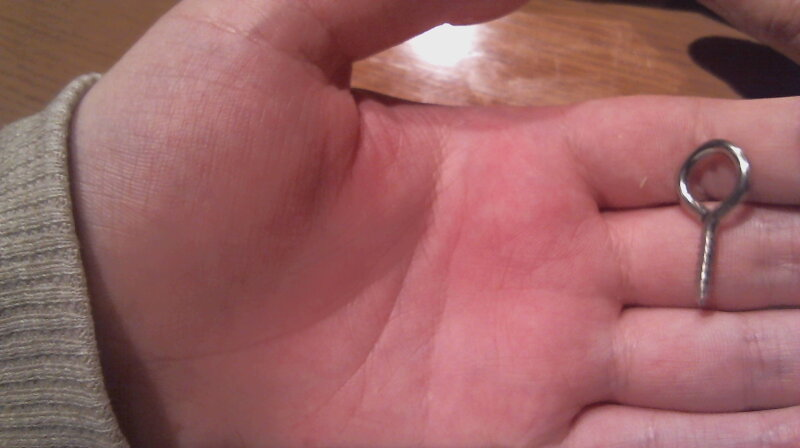O001: (668, 134, 753, 314)
